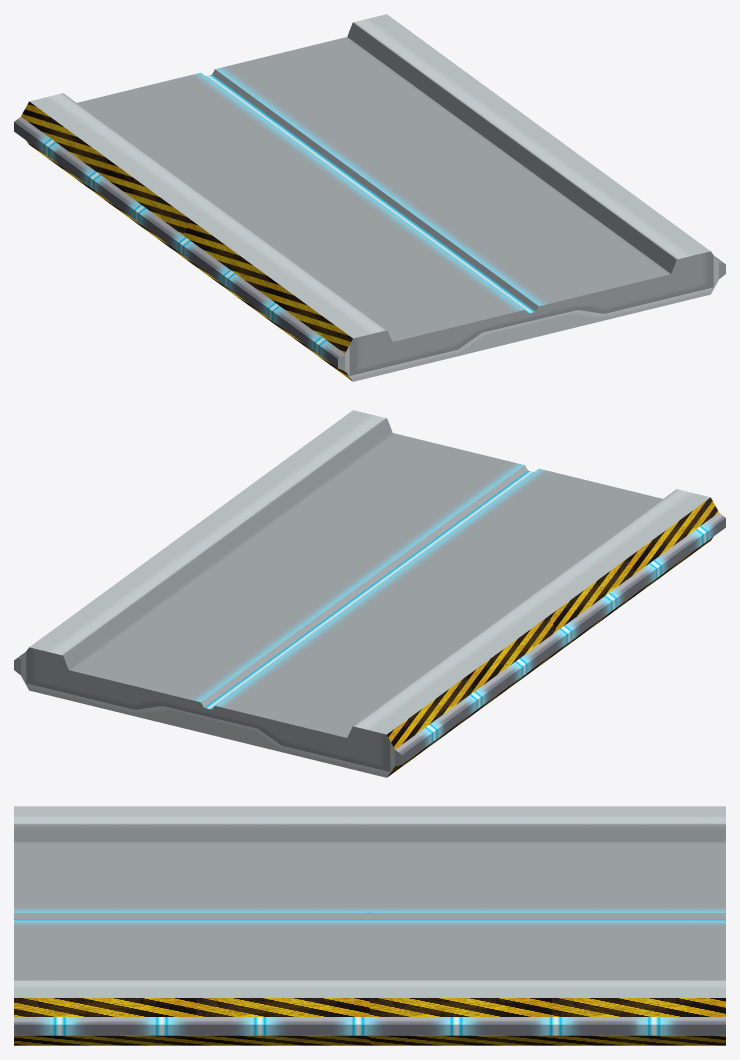
File: Tile_straight.fbx
The picture shows the model from 3 angles, top to bottom: view 1: azimuth 30°, elevation 25°; view 2: azimuth 150°, elevation 25°; view 3: azimuth 270°, elevation 25°; orthographic projection. The views are drawn at different scales.
Visible parts, largest first — view 1: TIle_straight; view 2: TIle_straight; view 3: TIle_straight.
Boxes of the visible parts, x1,y1,x2,y2 form: TIle_straight: (14, 14, 725, 381); TIle_straight: (14, 410, 725, 777); TIle_straight: (14, 806, 725, 1045).
Size of the model in its own units: 4.15 by 0.4422 by 6.
Materials: 1 (1 with a texture image).
